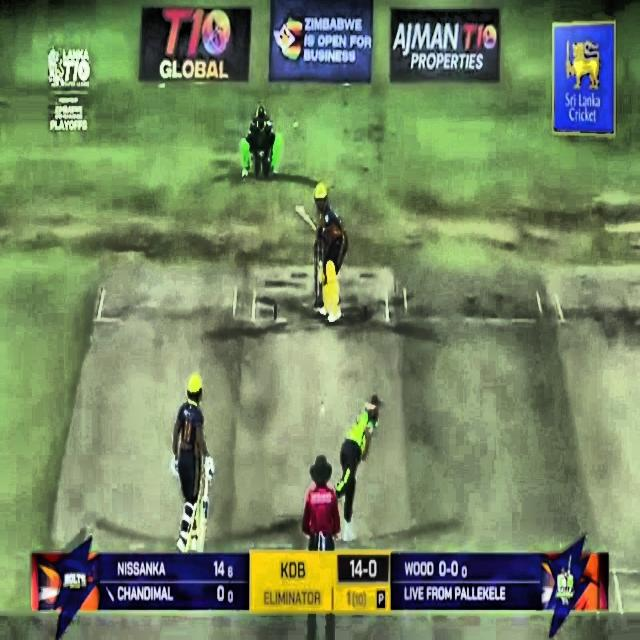Left-stump: (315, 243, 317, 306)
Middle-stump: (320, 241, 322, 304)
